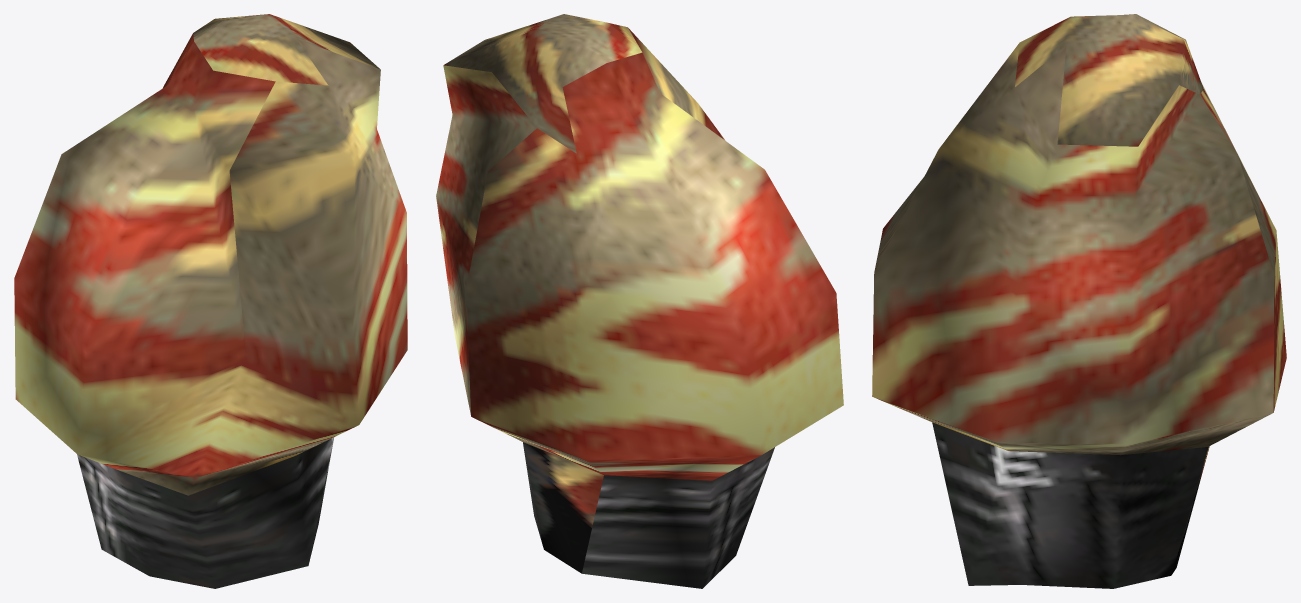
The model's file is Robot01.RightKnee1.fbx.
3 views of the same model, side by side, from view 1: azimuth 30°, elevation 25°; view 2: azimuth 150°, elevation 25°; view 3: azimuth 270°, elevation 25° (orthographic). The views are drawn at different scales.
Parts seen in each view (by area): view 1: Robot.016; view 2: Robot.016; view 3: Robot.016.
Part boxes in pixels (bbox=[...]): Robot.016: bbox=[14, 14, 407, 588]; Robot.016: bbox=[436, 14, 843, 588]; Robot.016: bbox=[872, 14, 1286, 588].
Size of the model in its own units: 31.42 by 44.05 by 29.04.
